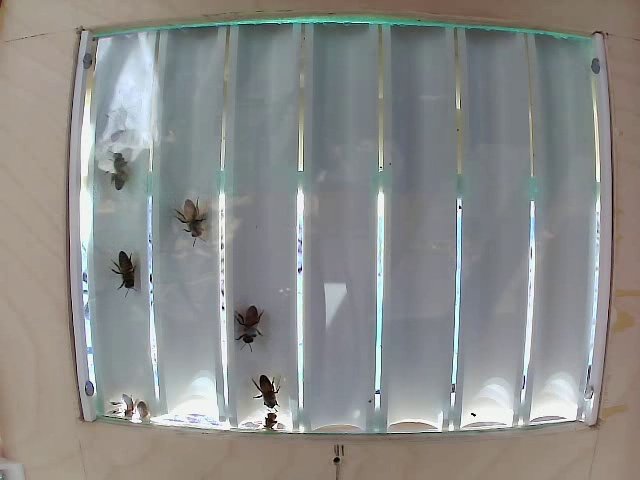bee: (168, 190, 212, 251), (110, 141, 150, 208), (102, 240, 141, 303), (224, 301, 275, 349), (243, 363, 288, 402)
